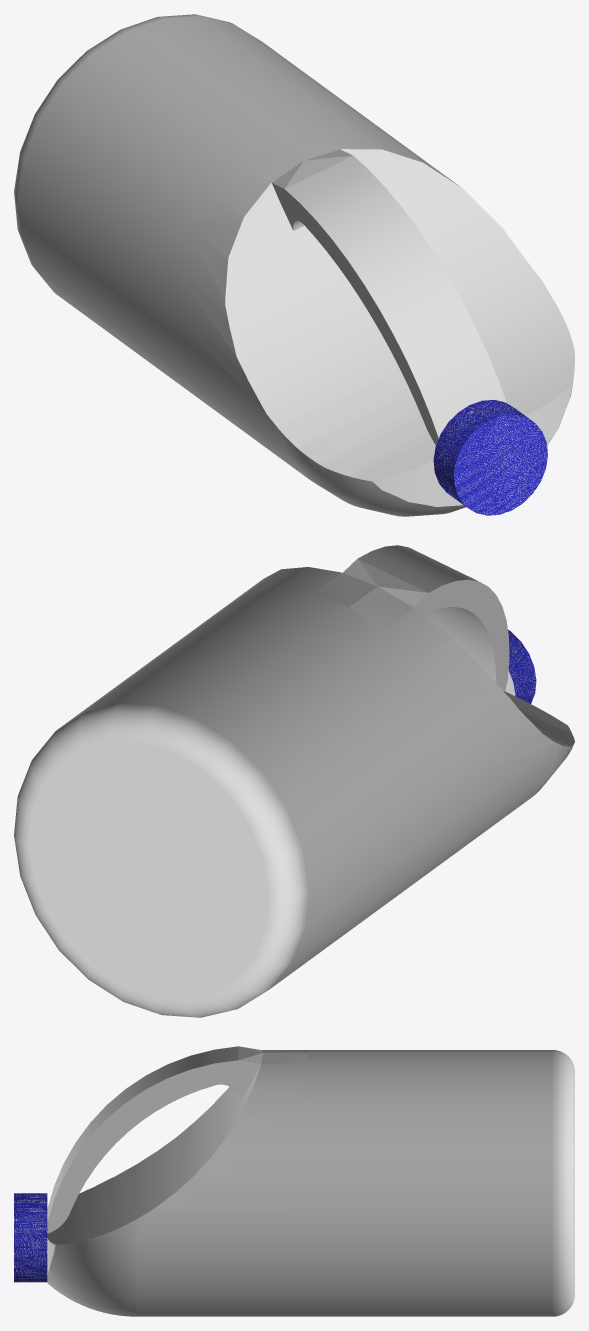
Rendered from model_align.obj.
3 views of the same model, one above another, from view 1: azimuth 30°, elevation 25°; view 2: azimuth 150°, elevation 25°; view 3: azimuth 270°, elevation 25° (orthographic). The views are drawn at different scales.
Visible parts, largest first — view 1: mesh2_mesh2-geometry, mesh1_mesh1-geometry; view 2: mesh2_mesh2-geometry, mesh1_mesh1-geometry; view 3: mesh2_mesh2-geometry, mesh1_mesh1-geometry.
Part boxes in pixels (x1=…): mesh2_mesh2-geometry: x1=14, y1=14, x2=574, y2=516; mesh1_mesh1-geometry: x1=433, y1=400, x2=547, y2=515; mesh2_mesh2-geometry: x1=14, y1=545, x2=574, y2=1017; mesh1_mesh1-geometry: x1=508, y1=630, x2=536, y2=703; mesh2_mesh2-geometry: x1=47, y1=1046, x2=574, y2=1316; mesh1_mesh1-geometry: x1=14, y1=1193, x2=47, y2=1282.
Size of the model in its own units: 0.0915 by 0.0927 by 0.1922.
